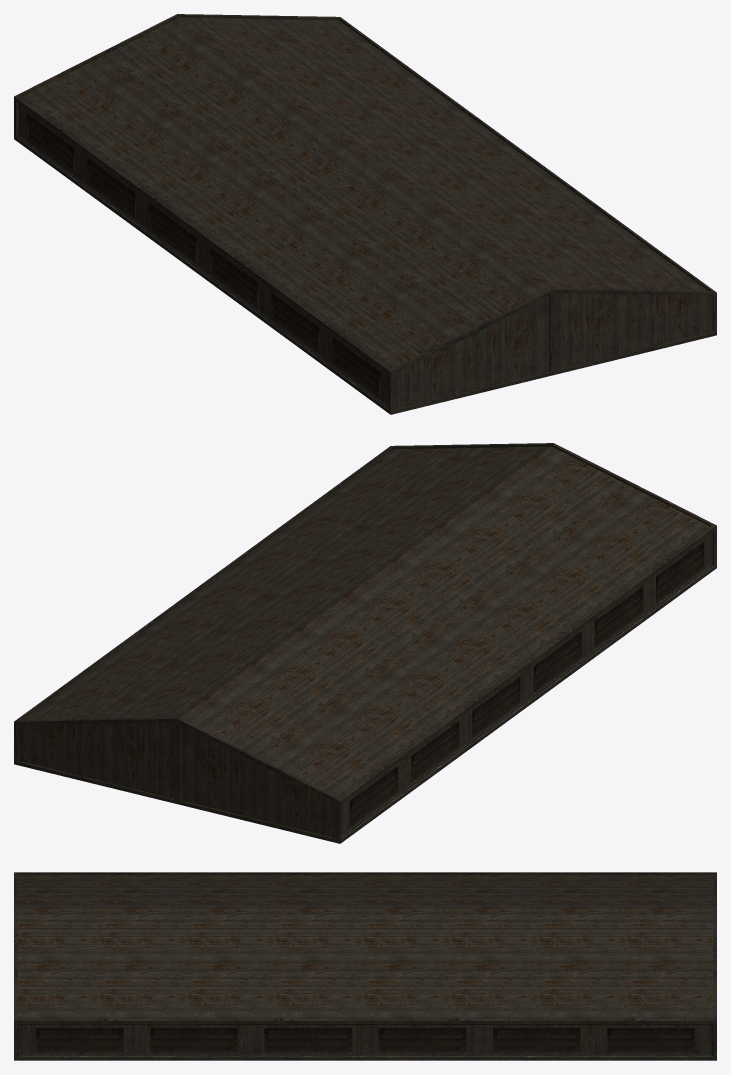
File: roof_mh_4_b_4.glb
3 views of the same model, one above another, from view 1: azimuth 30°, elevation 25°; view 2: azimuth 150°, elevation 25°; view 3: azimuth 270°, elevation 25° (orthographic). The views are drawn at different scales.
Visible parts, largest first — view 1: roof_mh_4_b_4; view 2: roof_mh_4_b_4; view 3: roof_mh_4_b_4.
Boxes of the visible parts, left/top/right/bottom form: roof_mh_4_b_4: left=14, top=14, right=716, bottom=414; roof_mh_4_b_4: left=14, top=443, right=716, bottom=843; roof_mh_4_b_4: left=14, top=872, right=716, bottom=1060.
Bounding box in the file's own units: 8 × 2 × 16.
Materials: 6 (6 with a texture image).
